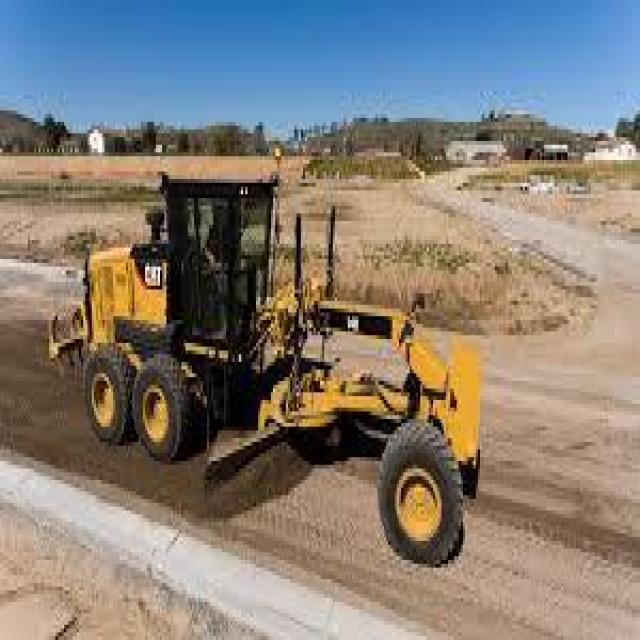buldozerpayloadergrader: (21, 133, 497, 587)
